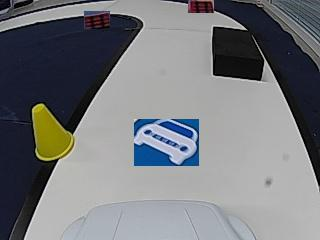block: (211, 25, 264, 79)
cone: (30, 103, 75, 160)
